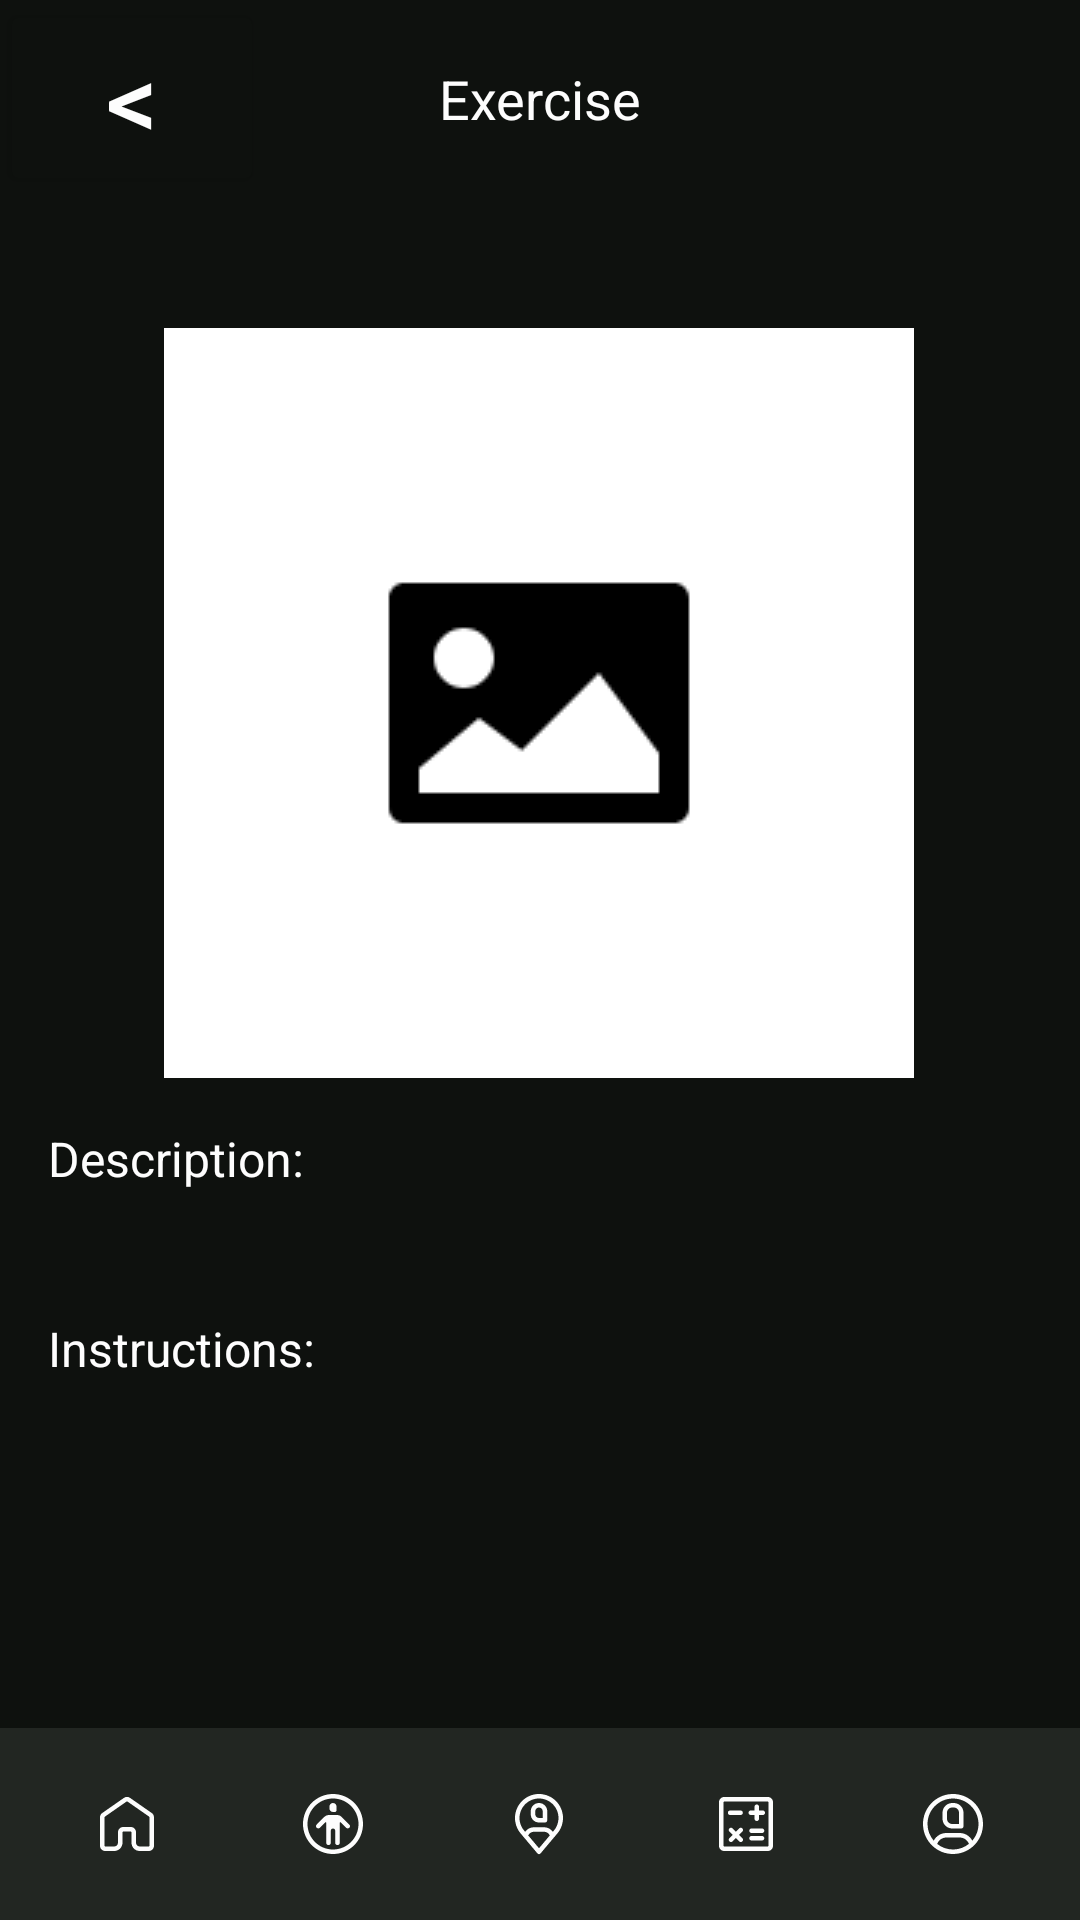

Named icons in this screenshot (1080x1920) and their bounding boxes, (x1, y1, x2, y2):
system account: (923, 1794, 983, 1854)
system calculate: (719, 1797, 773, 1851)
system home: (100, 1797, 154, 1851)
system location user: (515, 1794, 563, 1854)
